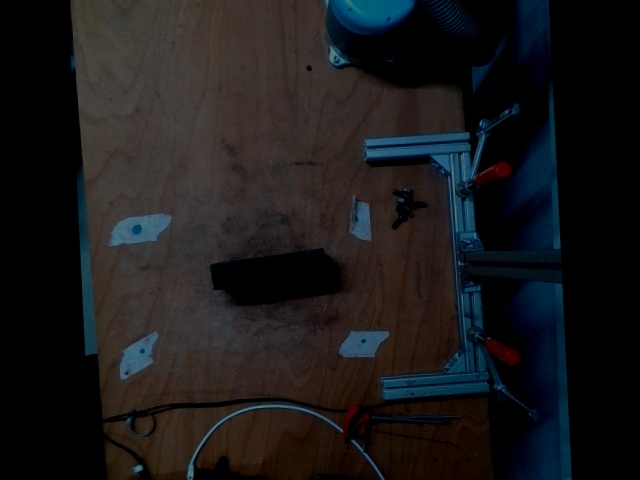brick-side: (209, 249, 324, 292)
